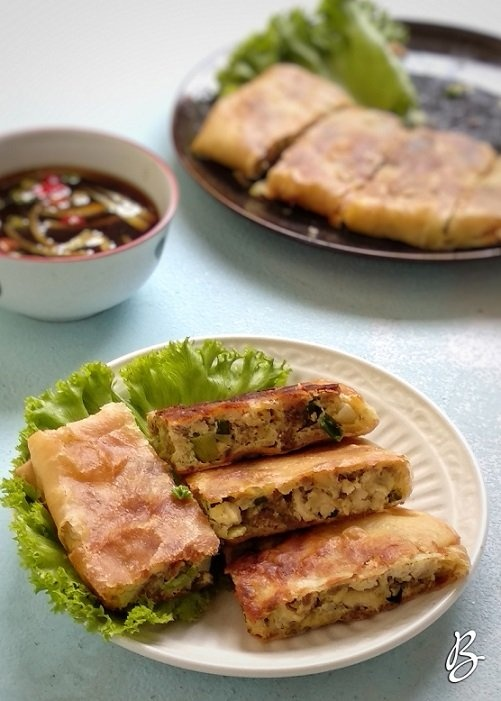martabak: (24, 381, 471, 644)
